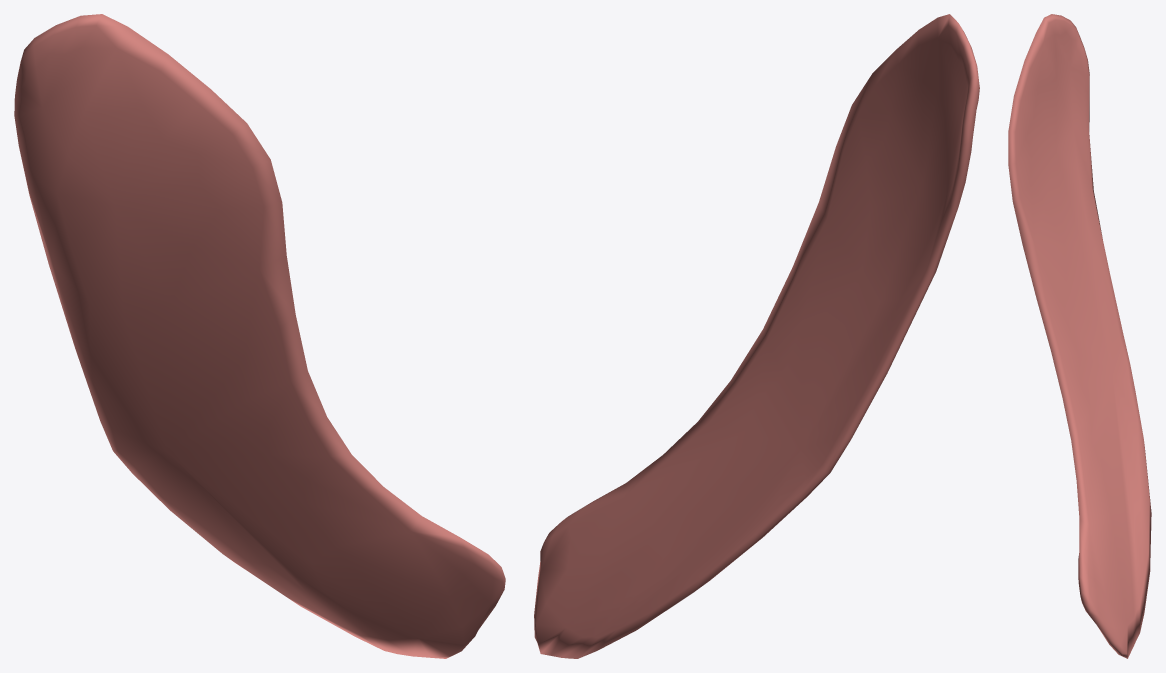
The picture shows the model from 3 angles, left to right: view 1: azimuth 30°, elevation 25°; view 2: azimuth 150°, elevation 25°; view 3: azimuth 270°, elevation 25°; orthographic projection. The views are drawn at different scales.
Parts seen in each view (by area): view 1: ZA_c702da41775c1302; view 2: ZA_c702da41775c1302; view 3: ZA_c702da41775c1302.
Part boxes in pixels (x1=…): ZA_c702da41775c1302: x1=14, y1=14, x2=505, y2=658; ZA_c702da41775c1302: x1=534, y1=14, x2=979, y2=658; ZA_c702da41775c1302: x1=1008, y1=14, x2=1151, y2=658.
Bounding box in the file's own units: 0.0189 × 0.0289 × 0.00733.
